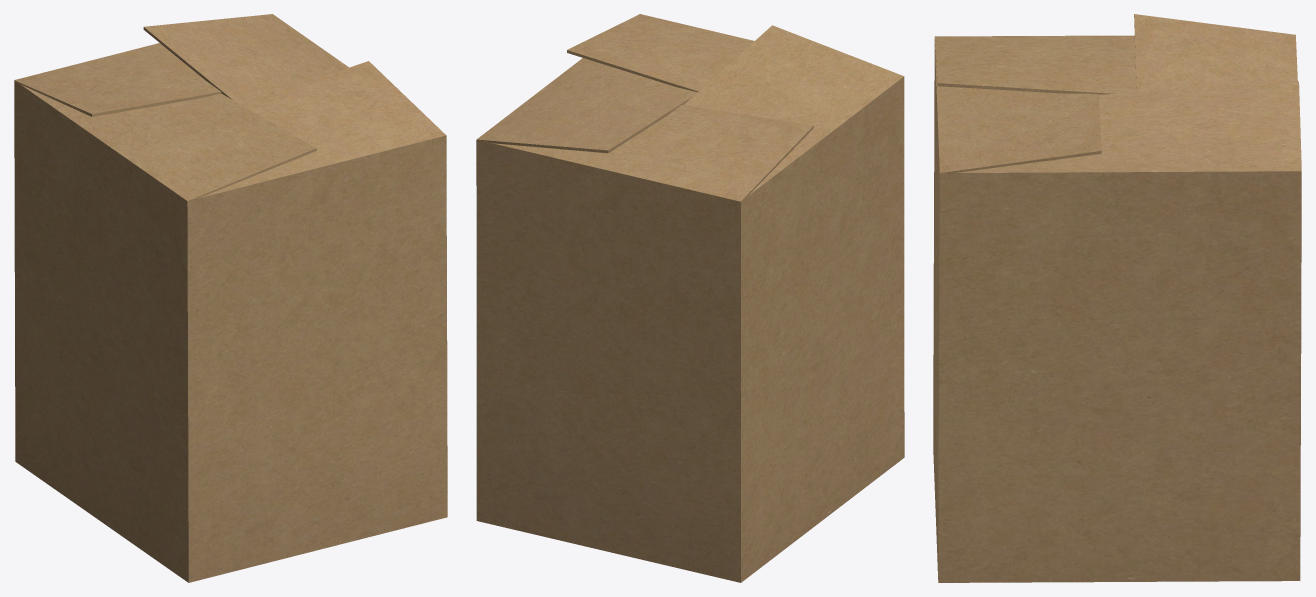
Rendered from Cardbox_closed01.glb.
3 views of the same model, side by side, from view 1: azimuth 30°, elevation 25°; view 2: azimuth 150°, elevation 25°; view 3: azimuth 270°, elevation 25° (orthographic). The views are drawn at different scales.
Visible parts, largest first — view 1: Cardbox_closed01; view 2: Cardbox_closed01; view 3: Cardbox_closed01.
Part boxes in pixels (x1,y1,x2,y2): Cardbox_closed01: (14, 14, 447, 582); Cardbox_closed01: (476, 14, 904, 582); Cardbox_closed01: (933, 14, 1301, 582).
Bounding box in the file's own units: 0.8434 × 1.21 × 0.9397.
1 material, 1 textured.
